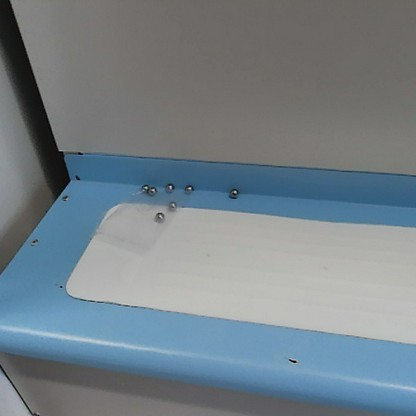ironball: (183, 181, 196, 195), (152, 210, 165, 224), (146, 184, 158, 198), (228, 185, 239, 200), (163, 180, 175, 191), (139, 181, 150, 193), (168, 198, 178, 211)
